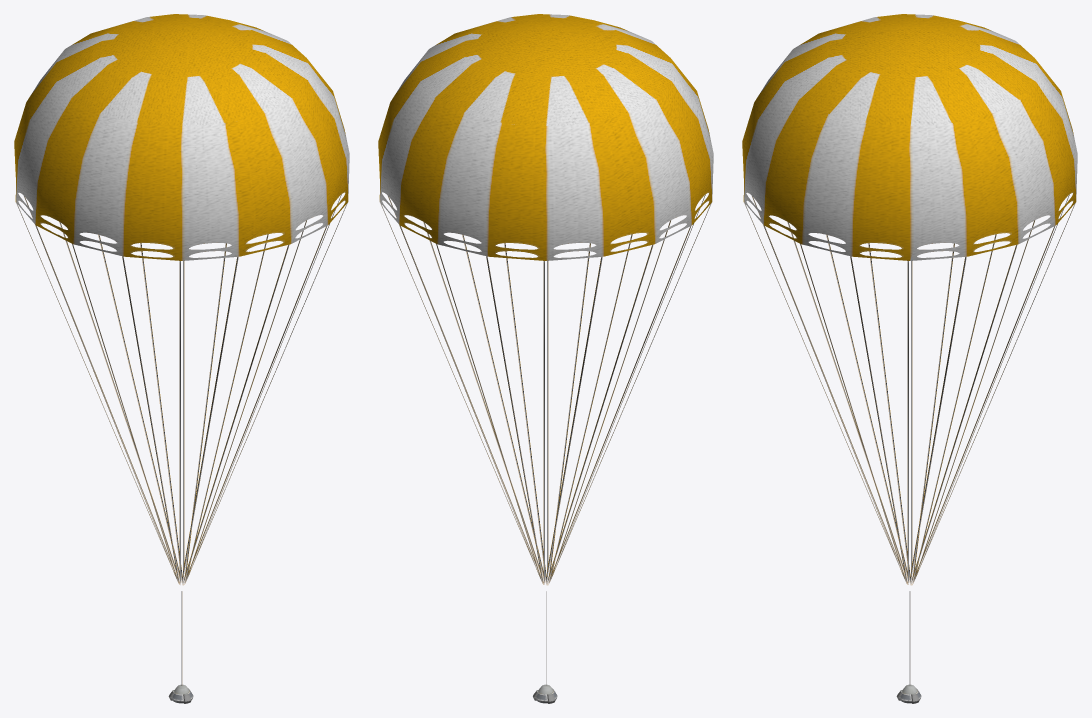
The model's file is para_single.DAE.
The picture shows the model from 3 angles, left to right: view 1: azimuth 30°, elevation 25°; view 2: azimuth 150°, elevation 25°; view 3: azimuth 270°, elevation 25°; orthographic projection.
Visible parts, largest first — view 1: canopy; view 2: canopy; view 3: canopy.
Part boxes in pixels (bbox=[...]): canopy: bbox=[14, 14, 349, 685]; canopy: bbox=[378, 14, 713, 685]; canopy: bbox=[742, 14, 1077, 685].
Size of what is drawn, in the model's own units: 6.61 by 14.27 by 6.57.
